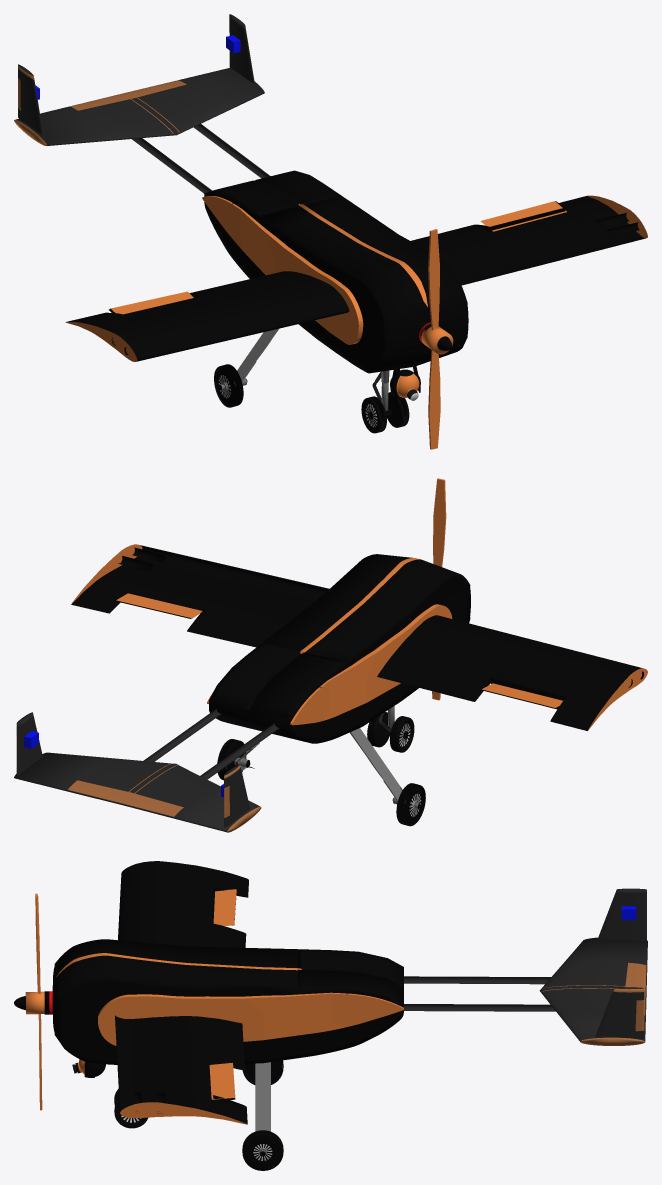
Rendered from UAV1.fbx.
The picture shows the model from 3 angles, top to bottom: view 1: azimuth 30°, elevation 25°; view 2: azimuth 150°, elevation 25°; view 3: azimuth 270°, elevation 25°; orthographic projection. The views are drawn at different scales.
Parts seen in each view (by area): view 1: Cylinder.006, Sphere.001; view 2: Cylinder.006, Sphere.001; view 3: Cylinder.006, Sphere.001.
Part boxes in pixels (x1=…): Cylinder.006: x1=14, y1=14, x2=647, y2=433; Sphere.001: x1=421, y1=229, x2=453, y2=449; Cylinder.006: x1=14, y1=544, x2=647, y2=832; Sphere.001: x1=432, y1=478, x2=446, y2=700; Cylinder.006: x1=44, y1=861, x2=647, y2=1170; Sphere.001: x1=25, y1=893, x2=44, y2=1110.
Size of the model in its own units: 601 by 264 by 658.
